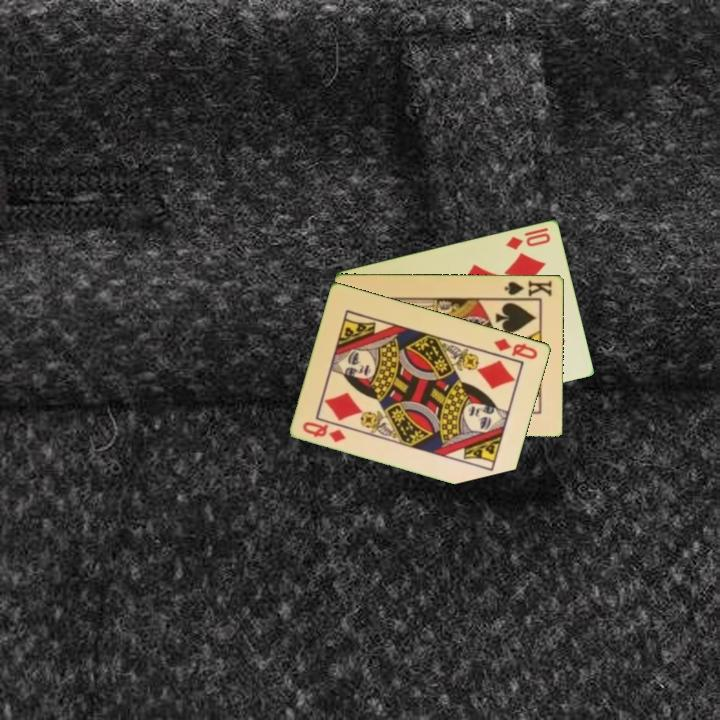10d: (502, 224, 554, 252)
Ks: (501, 276, 555, 301)
Qd: (491, 334, 541, 362), (299, 418, 349, 445)
